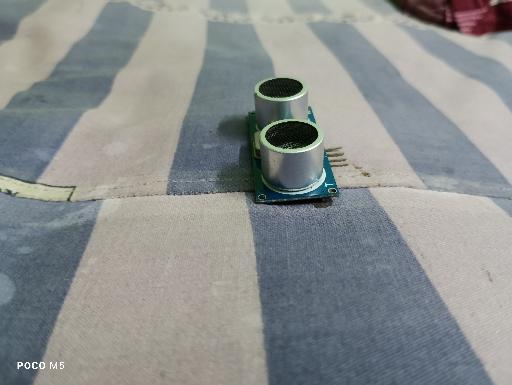sensor: (247, 76, 350, 204)
